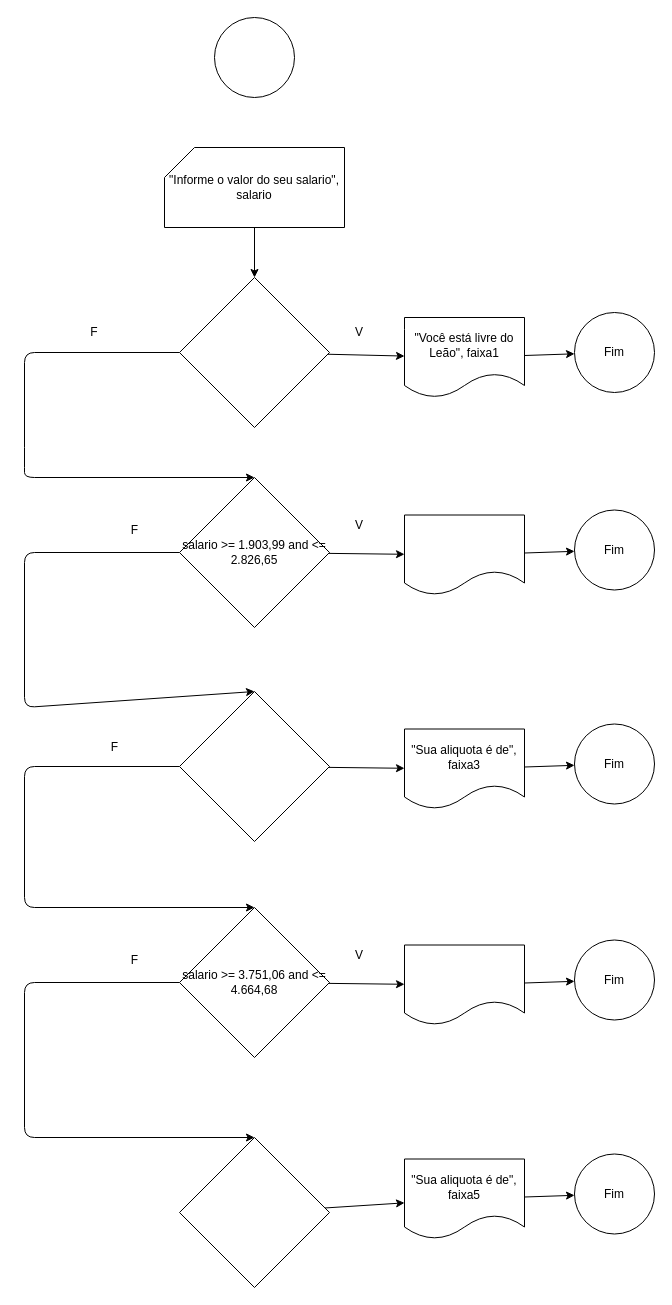
The diagram is 672 pixels wide and 1305 high, and some of its shapes have lost their labels. The box of each missing label's shape, as (x1, y1, x2, y2) in pixels:
"Sua aliquota é de", faixa2: (404, 514, 524, 595)
"Sua aliquota é de", faixa4: (404, 944, 524, 1025)
Inicio: (214, 16, 294, 98)
salario <= 1.903,98: (178, 276, 330, 428)
salario > 4.664,68: (178, 1136, 330, 1288)
salario >= 2.826,66 and <= 3.751,0: (178, 690, 330, 842)
